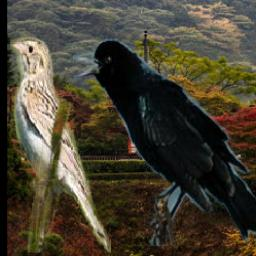Crow: (74, 39, 256, 246)
Sparrow: (10, 34, 111, 253)
